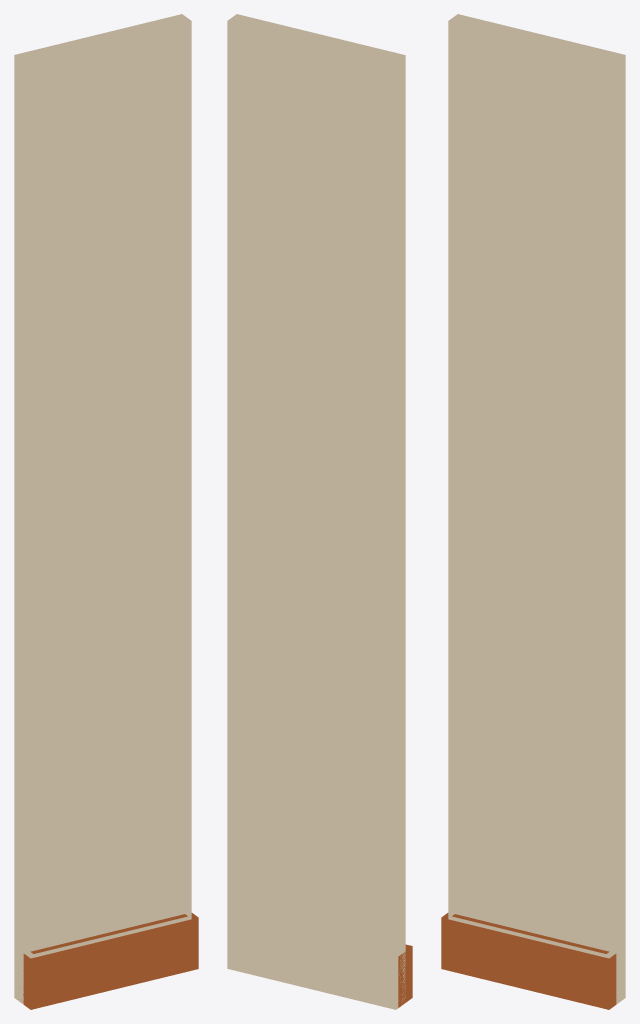
File: garage-wall-panel.obj
3 views of the same model, side by side, from view 1: azimuth 30°, elevation 25°; view 2: azimuth 150°, elevation 25°; view 3: azimuth 330°, elevation 25° (orthographic).
Parts seen in each view (by area): view 1: garage-wall-panel; view 2: garage-wall-panel; view 3: garage-wall-panel.
Part boxes in pixels (x1,y1,x2,y2): garage-wall-panel: [14, 14, 198, 1009]; garage-wall-panel: [227, 14, 412, 1009]; garage-wall-panel: [441, 14, 625, 1009].
Size of the model in its own units: 0.41 by 2.2 by 0.07.
